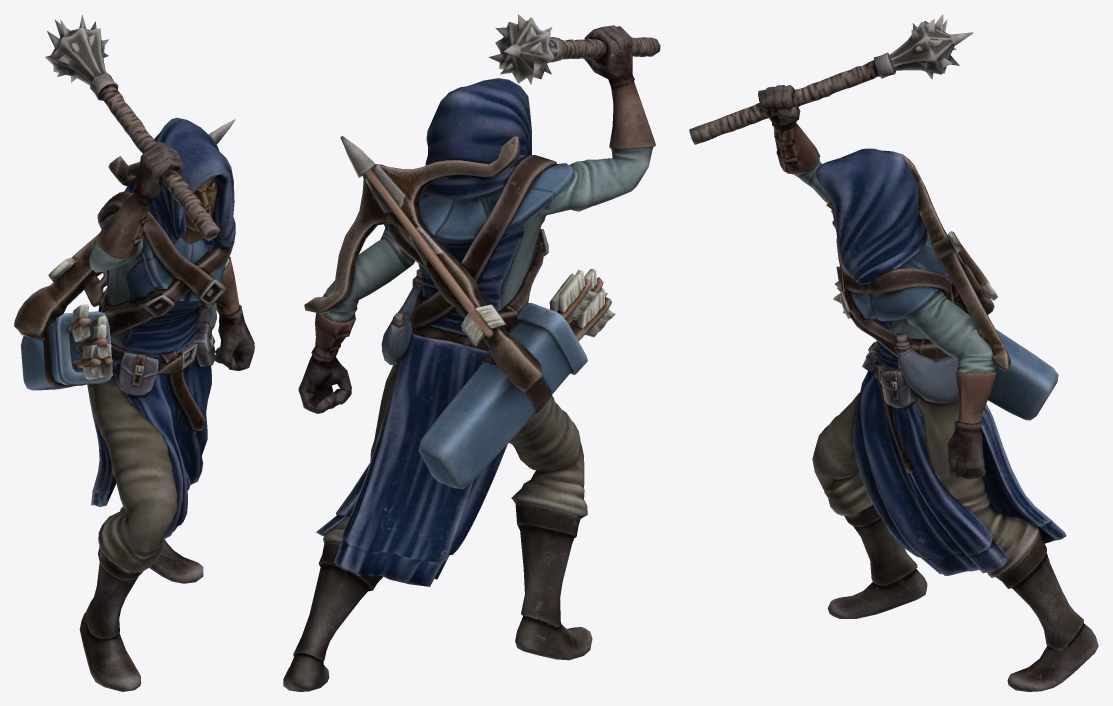
File: MZ4250 - Thug Female 02.glb
3 views of the same model, side by side, from view 1: azimuth 30°, elevation 25°; view 2: azimuth 150°, elevation 25°; view 3: azimuth 270°, elevation 25° (orthographic). The views are drawn at different scales.
Parts seen in each view (by area): view 1: ThugFemale01; view 2: ThugFemale01; view 3: ThugFemale01.
Boxes of the visible parts, box(x1,y1,x2,y2) form: ThugFemale01: box(14, 15, 254, 691); ThugFemale01: box(283, 14, 660, 691); ThugFemale01: box(689, 14, 1098, 691).
Bounding box in the file's own units: 0.4606 × 1.15 × 0.717.
1 material, 1 textured.
